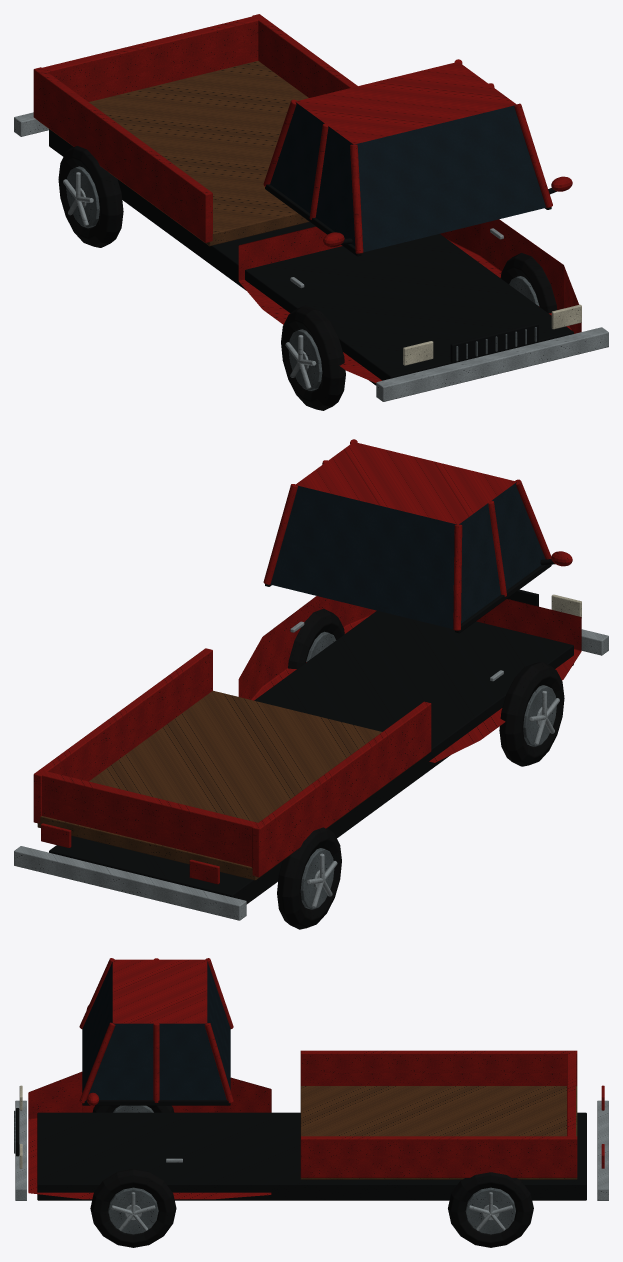
File: PROP-B7C7CF04E654_lod0.glb
3 renders of one model, top to bottom at view 1: azimuth 30°, elevation 25°; view 2: azimuth 150°, elevation 25°; view 3: azimuth 270°, elevation 25°, orthographic. The views are drawn at different scales.
Parts seen in each view (by area): view 1: chassis.018, sloped_cabin_glazing.018, bed_deck.002, bed_sides.002, roof_panel.016, tailgate.002, tire.018, shaped_body_panels.018, bumper.018, window_pillars.018, rim.018, radiator_grille.018 (+4 smaller); view 2: chassis.018, sloped_cabin_glazing.018, bed_deck.002, bed_sides.002, tailgate.002, roof_panel.016, tire.018, shaped_body_panels.018, bumper.018, window_pillars.018, rim.018, lamp_lenses.037 (+2 smaller); view 3: chassis.018, bed_sides.002, bed_deck.002, sloped_cabin_glazing.018, tire.018, roof_panel.016, shaped_body_panels.018, rim.018, window_pillars.018, bumper.018, rim_spokes.018, window_belt.018 (+1 smaller).
Boxes of the visible parts, x1,y1,x2,y2 form: chassis.018: [49, 129, 573, 385]; sloped_cabin_glazing.018: [270, 102, 546, 252]; bed_deck.002: [39, 61, 309, 246]; bed_sides.002: [33, 14, 357, 242]; roof_panel.016: [295, 61, 516, 144]; tailgate.002: [41, 16, 258, 101]; tire.018: [58, 146, 557, 410]; shaped_body_panels.018: [238, 219, 581, 382]; bumper.018: [14, 112, 608, 401]; window_pillars.018: [263, 59, 552, 253]; rim.018: [66, 166, 539, 390]; radiator_grille.018: [450, 323, 538, 362]; chassis.018: [49, 610, 573, 904]; sloped_cabin_glazing.018: [270, 482, 545, 628]; bed_deck.002: [37, 690, 426, 880]; bed_sides.002: [33, 648, 431, 877]; tailgate.002: [39, 771, 257, 866]; roof_panel.016: [295, 442, 516, 524]; tire.018: [277, 608, 564, 929]; shaped_body_panels.018: [238, 596, 581, 762]; bumper.018: [14, 629, 608, 920]; window_pillars.018: [263, 439, 551, 630]; rim.018: [300, 631, 556, 909]; lamp_lenses.037: [41, 823, 219, 884]; chassis.018: [37, 1112, 586, 1200]; bed_sides.002: [300, 1050, 577, 1177]; bed_deck.002: [300, 1086, 577, 1179]; sloped_cabin_glazing.018: [82, 961, 230, 1099]; tire.018: [90, 1105, 533, 1247]; roof_panel.016: [112, 959, 207, 1023]; shaped_body_panels.018: [28, 1071, 271, 1199]; rim.018: [108, 1105, 515, 1234]; window_pillars.018: [79, 958, 233, 1103]; bumper.018: [15, 1100, 608, 1200]; rim_spokes.018: [111, 1192, 512, 1231]; window_belt.018: [82, 1100, 230, 1105].
Bounding box in the file's own units: 2.56 × 2.62 × 6.61.
Materials: 8 (8 with a texture image).
